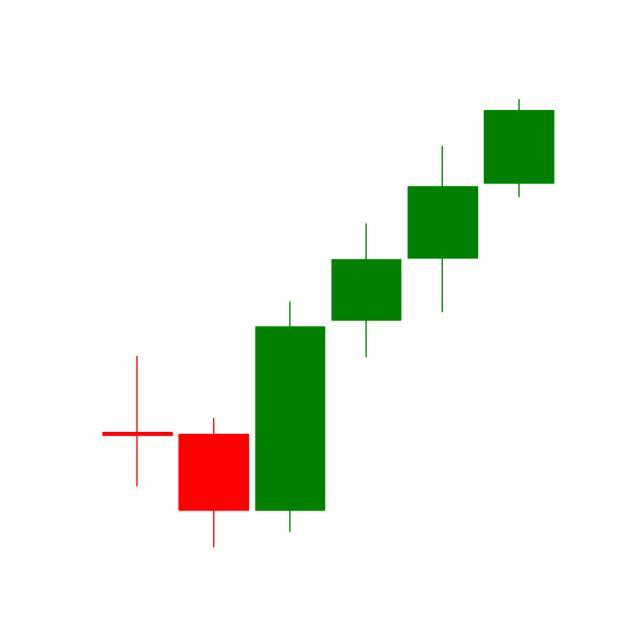Advance Block: (252, 142, 482, 537)
